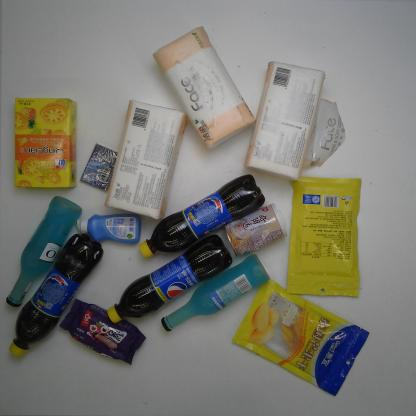Alcohol: (5, 195, 83, 308), (160, 253, 271, 332)
Canned Food: (223, 202, 288, 257)
Dessert: (13, 96, 78, 190), (58, 298, 147, 366)
Dried Fruit: (231, 278, 370, 397), (286, 176, 364, 298)
Drink: (8, 233, 104, 358), (106, 233, 233, 324), (138, 173, 266, 259)
Gum: (80, 142, 118, 192)
Personal Hygiene: (76, 213, 142, 244)
Tissue: (151, 25, 256, 152), (243, 60, 346, 183), (103, 99, 188, 221)
